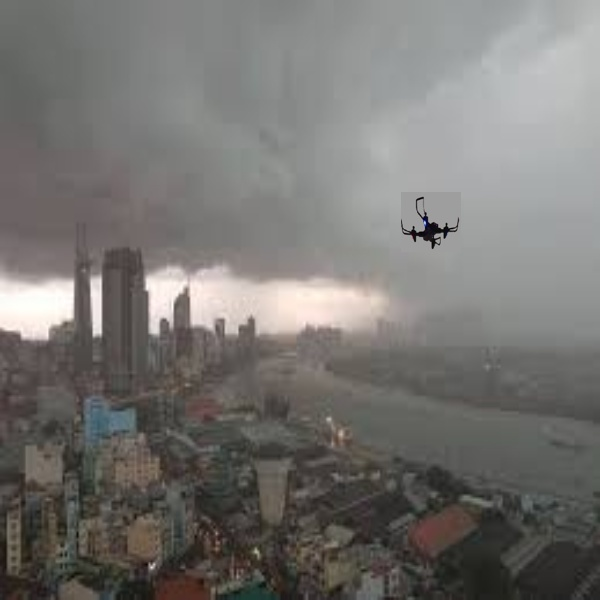drone: (397, 189, 464, 251)
